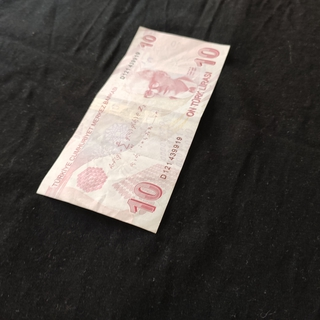10TLBack: (34, 24, 232, 235)
